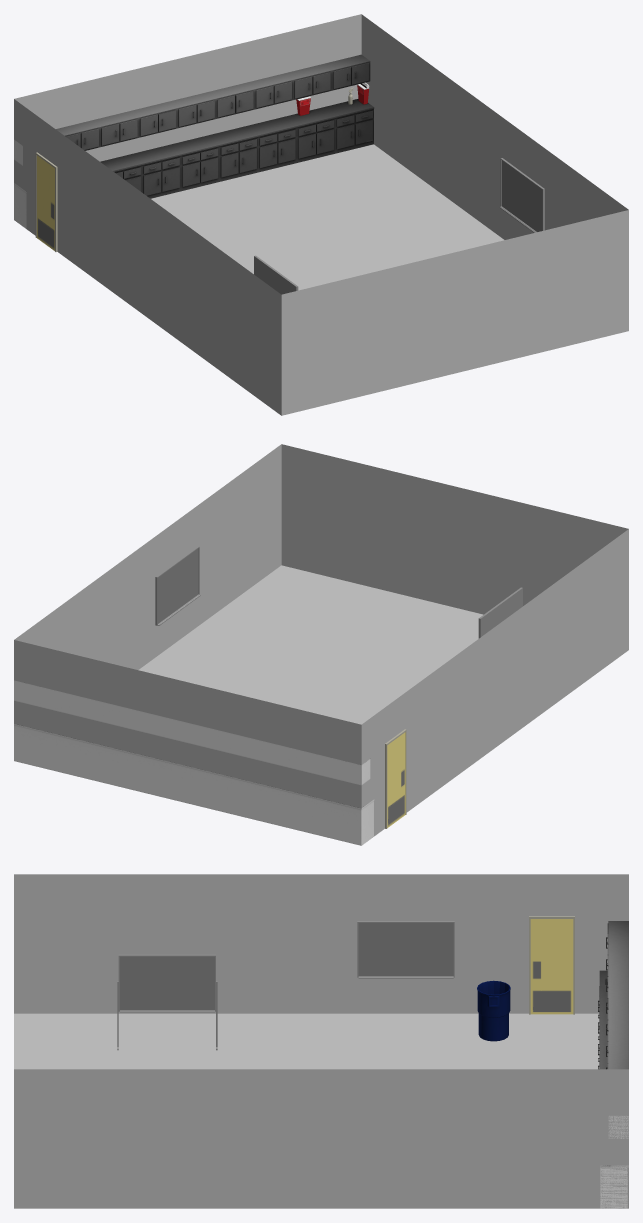
Rendered from RoomBaked.fbx.
The picture shows the model from 3 angles, top to bottom: view 1: azimuth 30°, elevation 25°; view 2: azimuth 150°, elevation 25°; view 3: azimuth 270°, elevation 25°; orthographic projection. The views are drawn at different scales.
Parts seen in each view (by area): view 1: Walls, Shelf, board, Door, frame1; view 2: Walls, Shelf, board, Door, frame1; view 3: Walls, board (×2), Shelf, Door, HazardWaste, frame1 (×2), DoorFrame.
Part boxes in pixels (box(x1,y1,x2,y2)): Walls: box(14, 14, 628, 415); Shelf: box(14, 54, 374, 228); board: box(501, 160, 542, 231); Door: box(37, 155, 54, 250); frame1: box(254, 255, 298, 294); Walls: box(14, 444, 628, 841); Shelf: box(14, 680, 374, 845); board: box(158, 548, 198, 623); Door: box(387, 732, 405, 827); frame1: box(478, 587, 522, 638); Walls: box(14, 874, 628, 1208); board (×2): box(120, 923, 453, 1010); Shelf: box(598, 921, 628, 1208); Door: box(530, 919, 573, 1014); HazardWaste: box(477, 980, 510, 1041); frame1 (×2): box(118, 921, 454, 1012); DoorFrame: box(529, 916, 574, 1014).
Size of the model in its own units: 904 by 300 by 1200.
